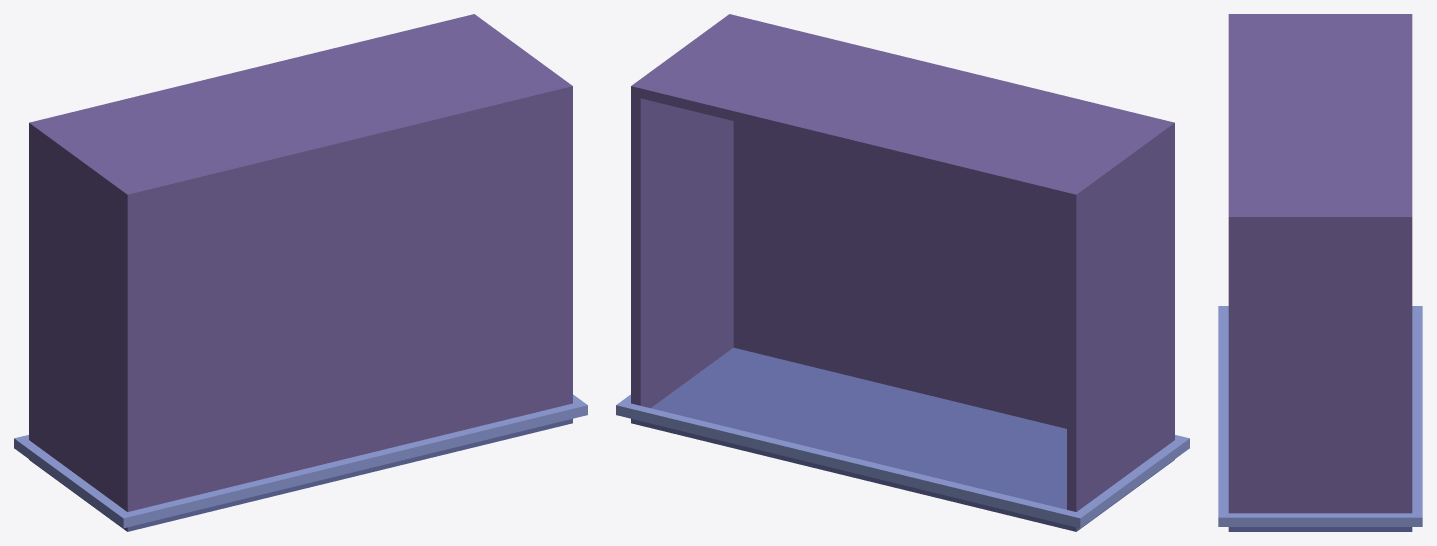
File: Cajon1.fbx
The picture shows the model from 3 angles, left to right: view 1: azimuth 30°, elevation 25°; view 2: azimuth 150°, elevation 25°; view 3: azimuth 270°, elevation 25°; orthographic projection. The views are drawn at different scales.
Parts seen in each view (by area): view 1: cajonPistas; view 2: cajonPistas; view 3: cajonPistas.
Part boxes in pixels (<box>): cajonPistas: <box>14,14,587,531</box>; cajonPistas: <box>616,14,1189,531</box>; cajonPistas: <box>1218,14,1422,531</box>.
Bounding box in the file's own units: 4900 × 3500 × 2000.
